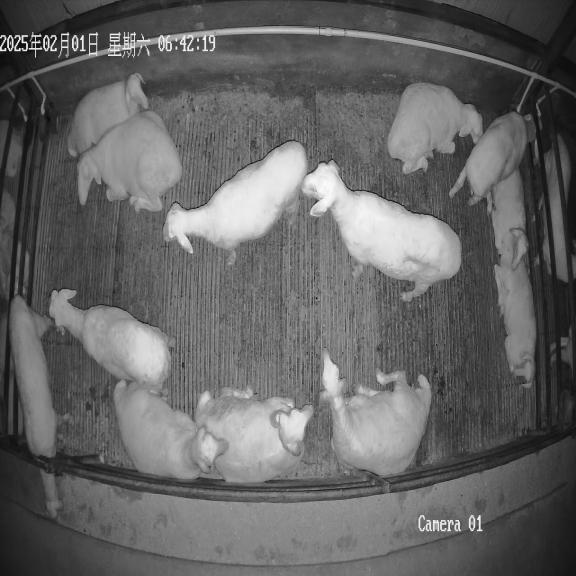eating: (9, 295, 62, 520)
lying: (320, 349, 431, 477), (114, 380, 228, 479), (195, 388, 313, 483), (77, 110, 182, 212), (387, 83, 483, 174), (67, 73, 149, 157), (495, 260, 536, 387), (486, 168, 528, 269)
stand: (302, 160, 461, 301), (163, 141, 308, 265), (50, 289, 171, 392), (449, 112, 536, 206)
